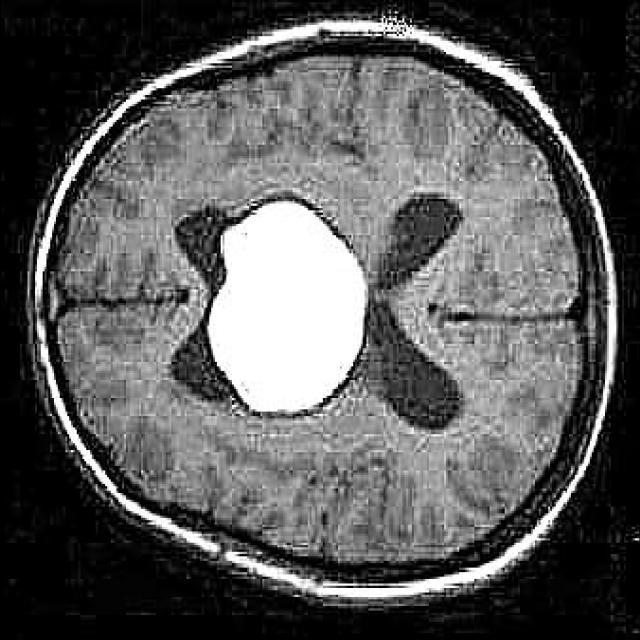tumor: (172, 192, 371, 416)
